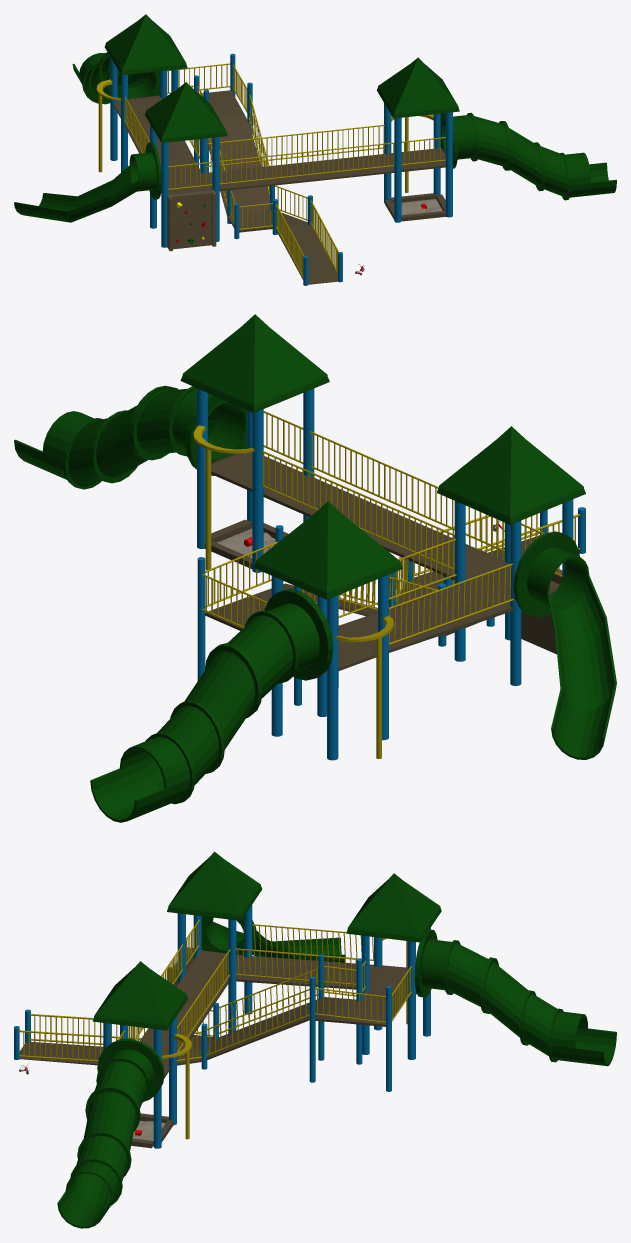
File: newPlayground.fbx
3 renders of one model, top to bottom at view 1: azimuth 30°, elevation 25°; view 2: azimuth 150°, elevation 25°; view 3: azimuth 270°, elevation 25°, orthographic. The views are drawn at different scales.
Parts seen in each view (by area): view 1: polySurface1131; view 2: polySurface1131; view 3: polySurface1131.
Part boxes in pixels (bbox=[...]): polySurface1131: bbox=[14, 14, 616, 285]; polySurface1131: bbox=[14, 314, 616, 822]; polySurface1131: bbox=[14, 851, 616, 1228].
Size of the model in its own units: 477 by 147 by 453.
